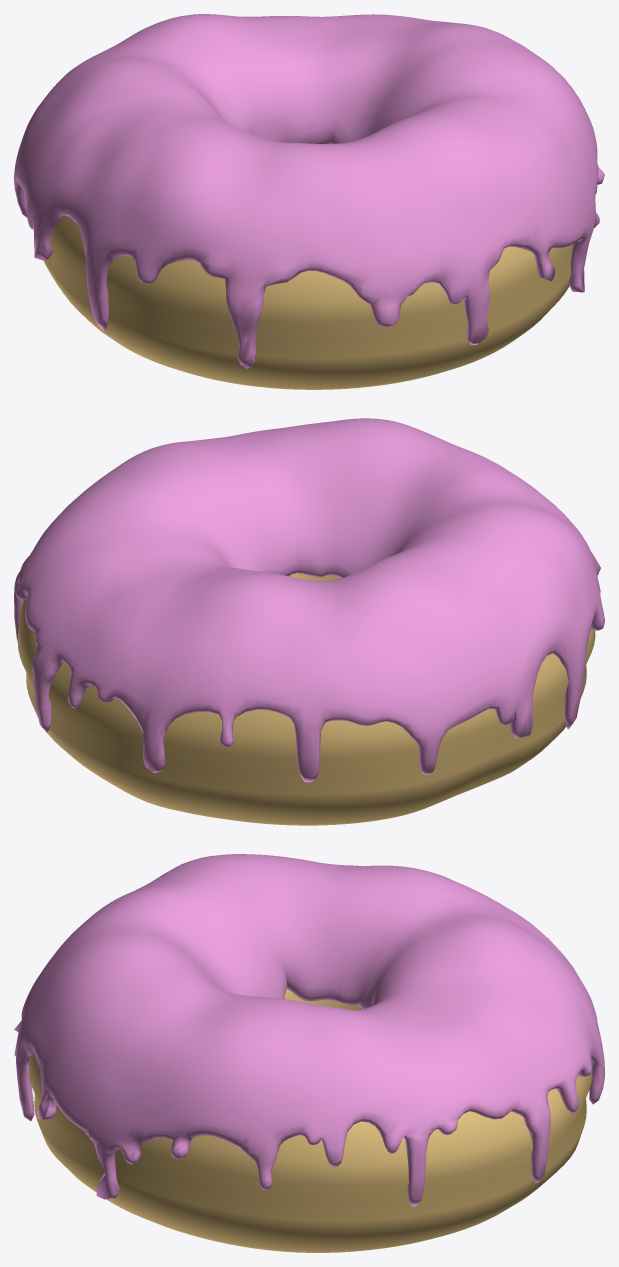
The model's file is donut.gltf.
3 renders of one model, top to bottom at view 1: azimuth 30°, elevation 25°; view 2: azimuth 150°, elevation 25°; view 3: azimuth 270°, elevation 25°, orthographic.
Visible parts, largest first — view 1: Icing, Donut; view 2: Icing, Donut; view 3: Icing, Donut.
Boxes of the visible parts, left/top/right/bottom form: Icing: left=14, top=14, right=604, bottom=368; Donut: left=44, top=215, right=573, bottom=389; Icing: left=14, top=418, right=604, bottom=782; Donut: left=17, top=573, right=595, bottom=825; Icing: left=14, top=854, right=604, bottom=1206; Donut: left=29, top=989, right=592, bottom=1252.
Size of what is drawn, in the model's own units: 0.1002 by 0.0458 by 0.1028.
